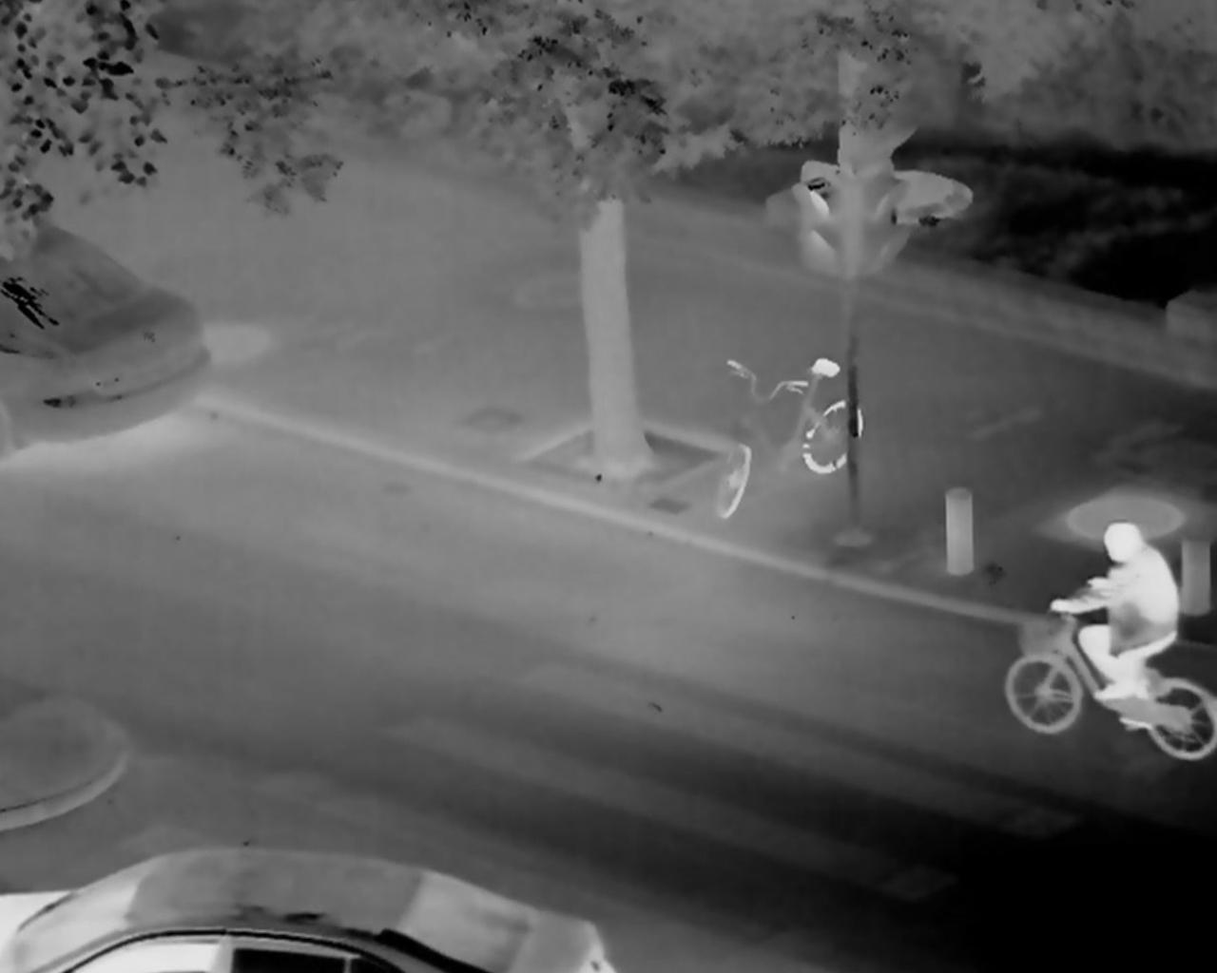person: (1047, 523, 1178, 747)
